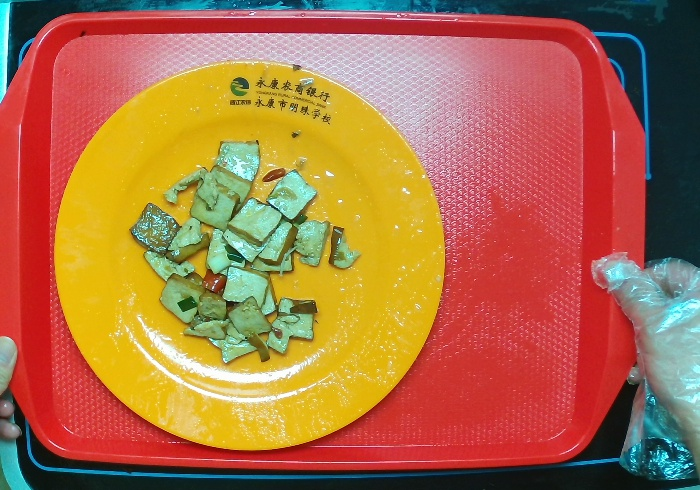YKMZ-Ju_Se_Mian_Pan: (51, 61, 447, 453)
